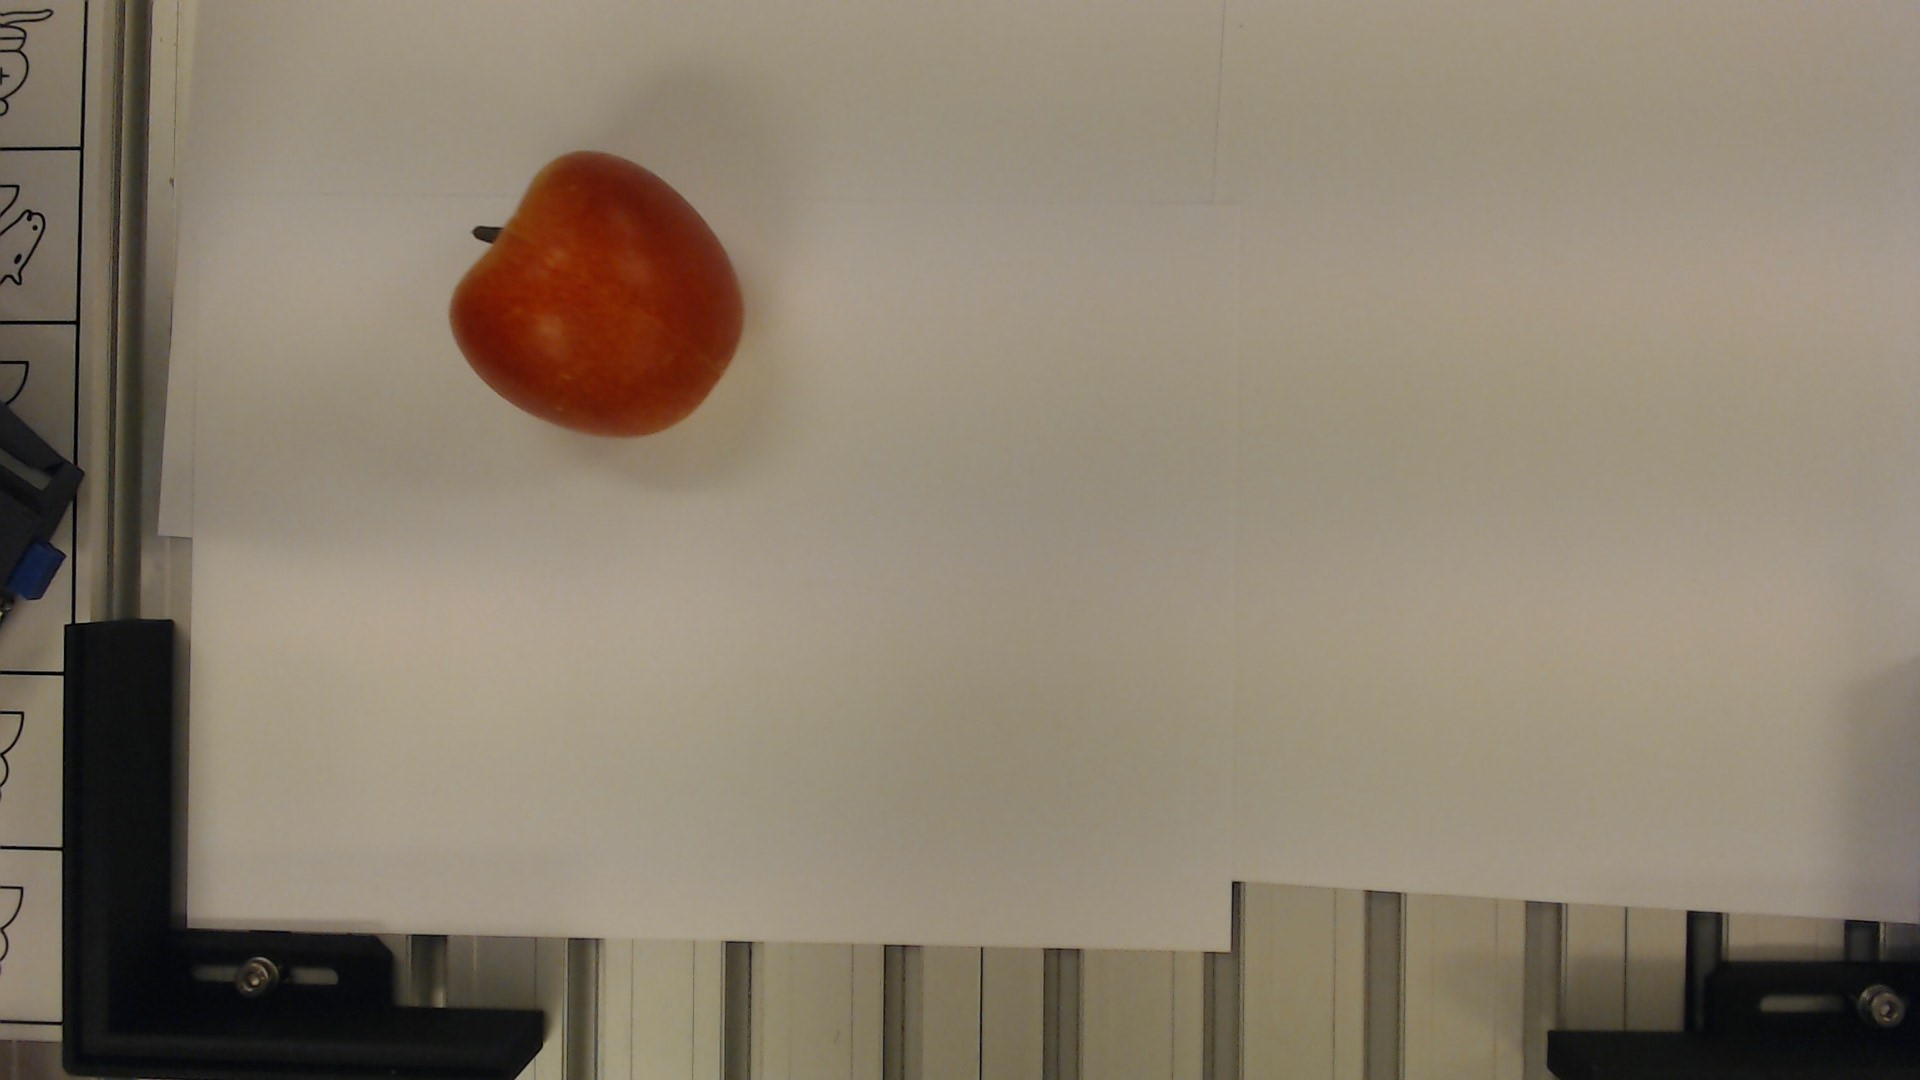Peach: (426, 149, 752, 443)
